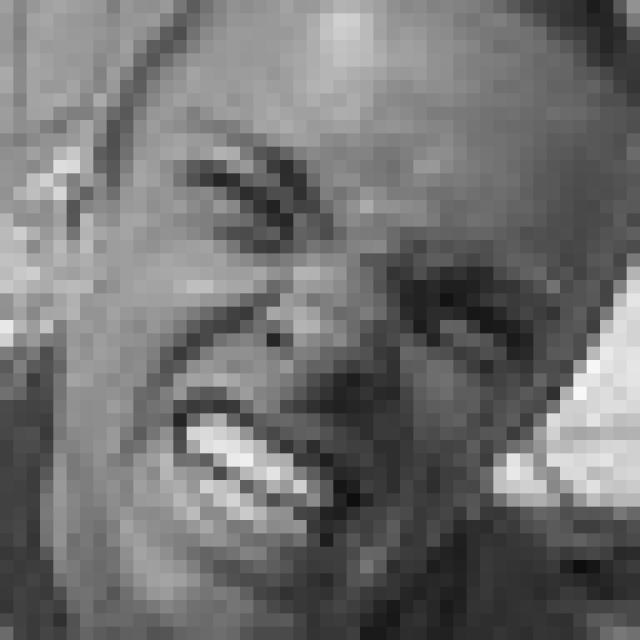angry: (111, 101, 563, 601)
